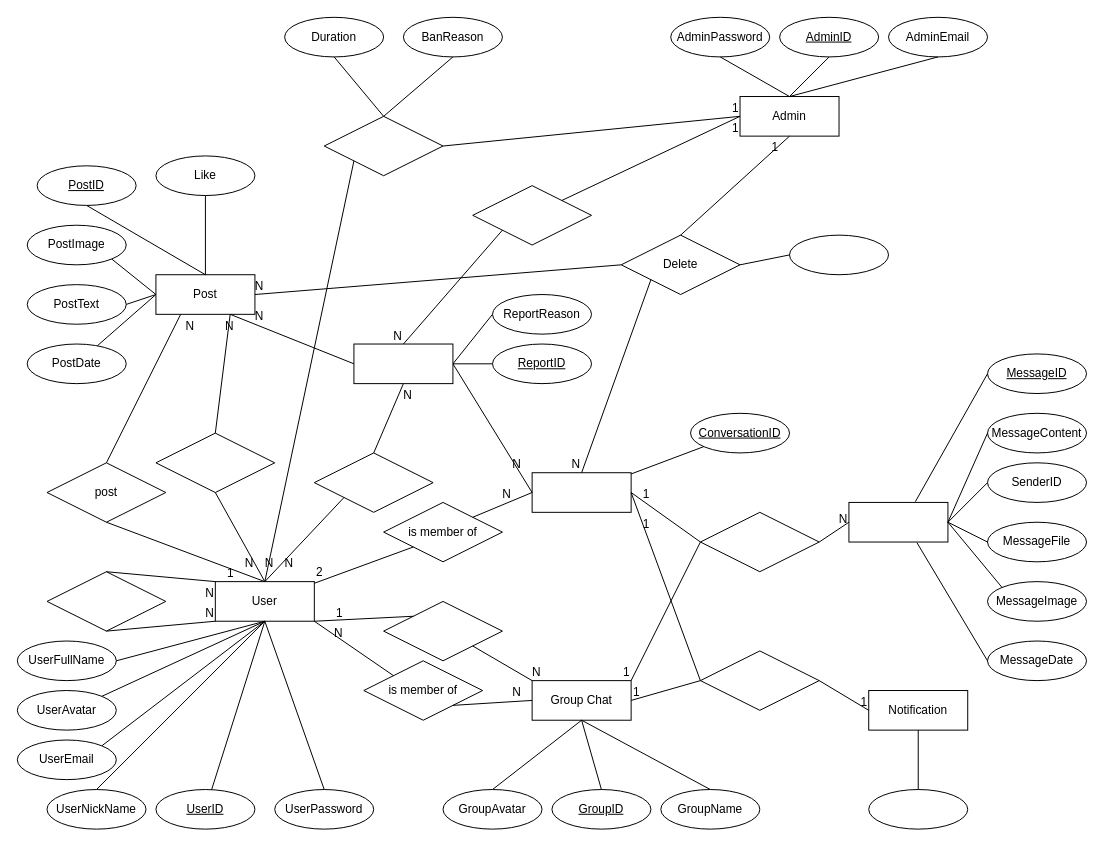
The diagram is 1104 pixels wide and 846 high, and some of its shapes have lost their labels. Each missing label, with the centre of its shape:
"Approve" belongs at (x=532, y=215).
"Ban" belongs at (x=383, y=145).
"contain" belongs at (x=759, y=541).
"Conversation" belongs at (x=581, y=492).
"DeleteReason" belongs at (x=839, y=254).
"Friend" belongs at (x=106, y=601).
"have" belongs at (x=759, y=680).
"make" belongs at (x=373, y=482).
"Message" belongs at (x=898, y=521).
"own" belongs at (x=442, y=630).
"react" belongs at (x=215, y=462).
"Report" belongs at (x=403, y=363).
"Type" belongs at (x=918, y=809).
